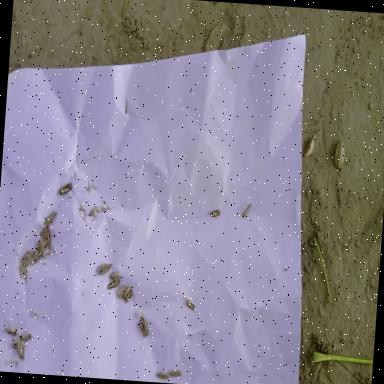pbw: (14, 340, 24, 360), (98, 262, 112, 276), (106, 276, 119, 290), (58, 182, 72, 195), (122, 284, 132, 302), (46, 209, 56, 225), (34, 245, 44, 261), (138, 321, 147, 338), (44, 224, 52, 243), (116, 284, 126, 299), (141, 317, 149, 335), (242, 201, 250, 218), (184, 298, 194, 310), (20, 332, 31, 342), (156, 371, 168, 379), (169, 368, 181, 376), (110, 271, 119, 280), (209, 208, 219, 216)
